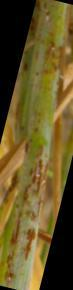Wheat: (35, 3, 68, 83), (0, 222, 40, 284), (16, 152, 48, 217)
